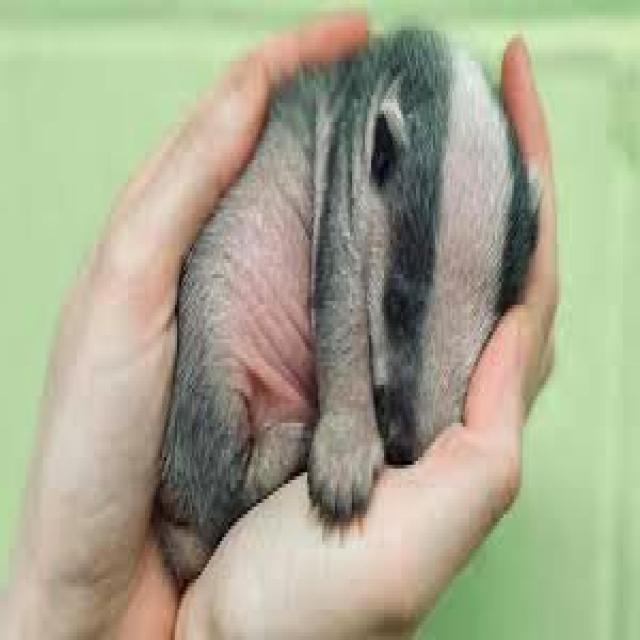badger: (162, 27, 538, 571)
